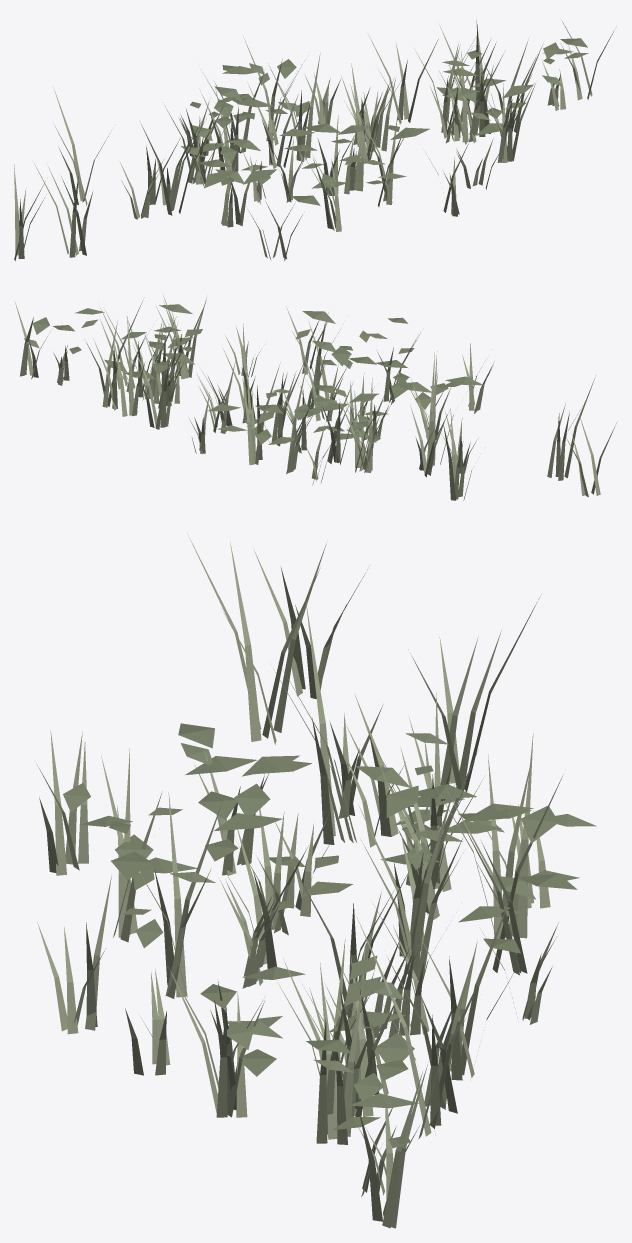
The model's file is AE_Encroachment_03.fbx.
3 views of the same model, one above another, from view 1: azimuth 30°, elevation 25°; view 2: azimuth 150°, elevation 25°; view 3: azimuth 270°, elevation 25° (orthographic). The views are drawn at different scales.
Visible parts, largest first — view 1: AE_Encroachment_03_LOD0; view 2: AE_Encroachment_03_LOD0; view 3: AE_Encroachment_03_LOD0.
Part boxes in pixels (x1,y1,x2,y2): AE_Encroachment_03_LOD0: [14, 19, 614, 261]; AE_Encroachment_03_LOD0: [15, 294, 617, 500]; AE_Encroachment_03_LOD0: [37, 533, 596, 1228].
Size of what is drawn, in the model's own units: 604 by 104 by 255.
